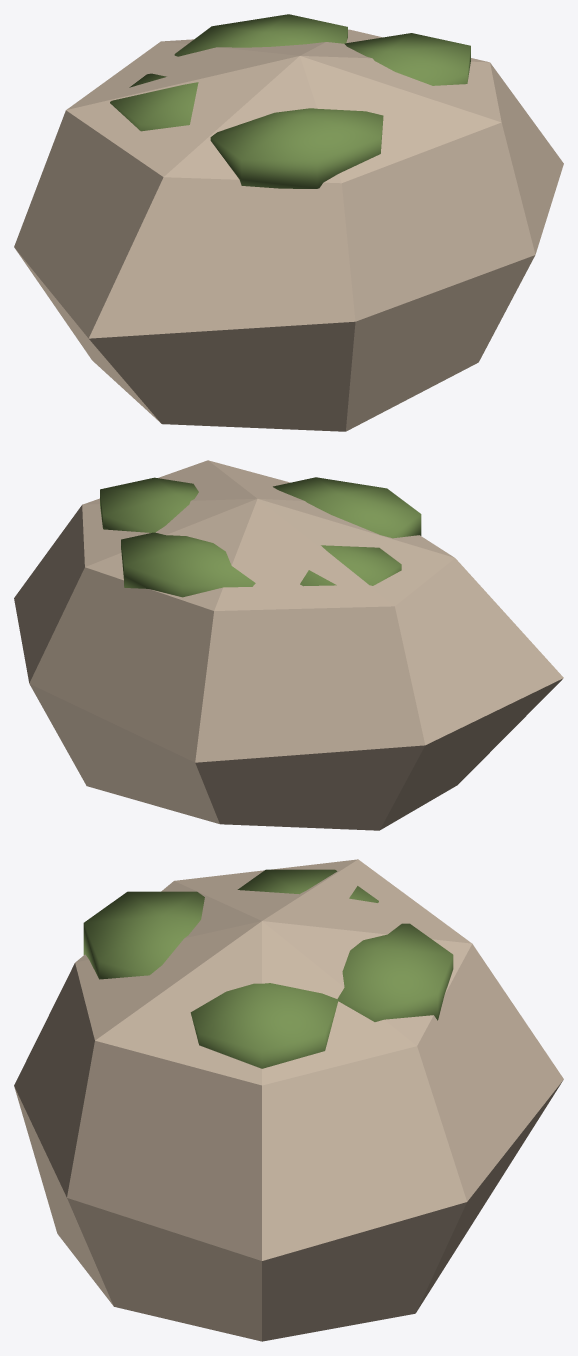
Rendered from rock_deco_2.glb.
3 renders of one model, top to bottom at view 1: azimuth 30°, elevation 25°; view 2: azimuth 150°, elevation 25°; view 3: azimuth 270°, elevation 25°, orthographic. The views are drawn at different scales.
Parts seen in each view (by area): view 1: rock_deco_2; view 2: rock_deco_2; view 3: rock_deco_2.
Part boxes in pixels (left/top/right/bottom): rock_deco_2: left=14, top=14, right=563, bottom=431; rock_deco_2: left=14, top=460, right=563, bottom=830; rock_deco_2: left=14, top=859, right=563, bottom=1341.
Bounding box in the file's own units: 1.46 × 0.9 × 1.15.
